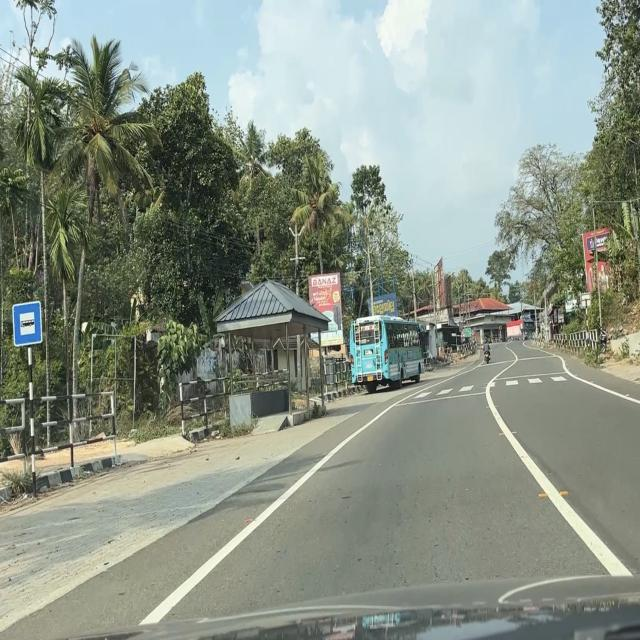INFORMATION: (11, 300, 43, 348)
